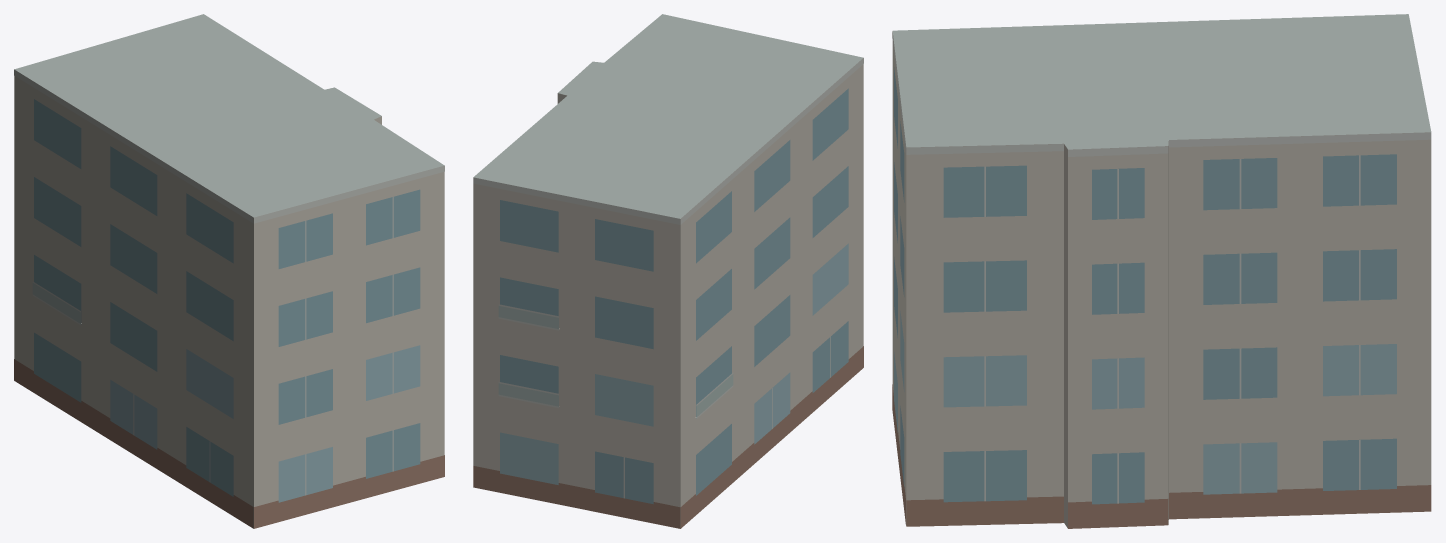
The model's file is survey-upis-32998352.glb.
3 renders of one model, left to right at view 1: azimuth 30°, elevation 25°; view 2: azimuth 150°, elevation 25°; view 3: azimuth 270°, elevation 25°, orthographic. The views are drawn at different scales.
Parts seen in each view (by area): view 1: survey-upis-32998352.tmp; view 2: survey-upis-32998352.tmp; view 3: survey-upis-32998352.tmp.
Boxes of the visible parts, box(x1,y1,x2,y2) form: survey-upis-32998352.tmp: box(14, 14, 444, 528); survey-upis-32998352.tmp: box(473, 14, 863, 528); survey-upis-32998352.tmp: box(892, 14, 1431, 528).
Bounding box in the file's own units: 9.52 × 12.4 × 15.98.
